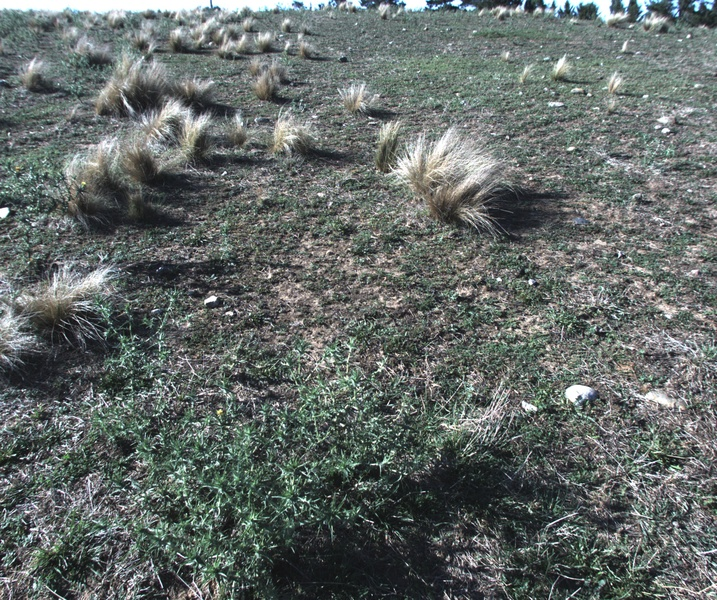st: (401, 137, 488, 221), (33, 264, 109, 334), (367, 117, 415, 181), (94, 70, 164, 112), (70, 152, 118, 207), (120, 109, 181, 152), (266, 112, 313, 154), (123, 144, 170, 186), (178, 112, 207, 172), (172, 80, 214, 114), (224, 119, 261, 157), (17, 57, 48, 98), (338, 82, 373, 114), (126, 191, 158, 225), (600, 67, 626, 106), (546, 49, 574, 84), (1, 316, 17, 367), (249, 74, 278, 101), (81, 41, 107, 69), (219, 37, 245, 62), (167, 28, 190, 51), (202, 20, 223, 44), (516, 61, 536, 86), (254, 34, 277, 55), (243, 62, 264, 83), (494, 47, 515, 65), (269, 62, 285, 82), (238, 13, 254, 32), (618, 34, 633, 54), (299, 41, 314, 59), (281, 18, 295, 36), (137, 26, 148, 45)
